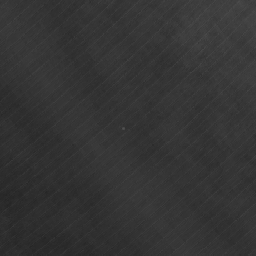Target: (119, 125, 126, 132)
